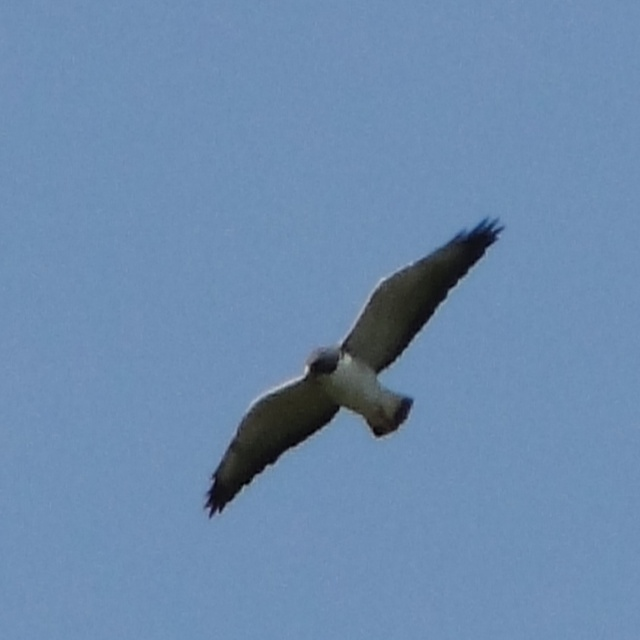Eagle: (203, 214, 508, 523)
